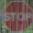Stop: (2, 0, 30, 32)
